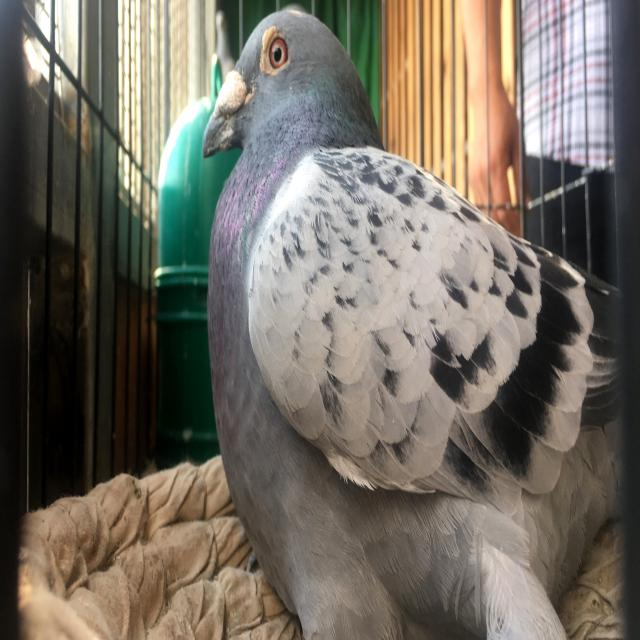Pigeon: (200, 0, 622, 629)
